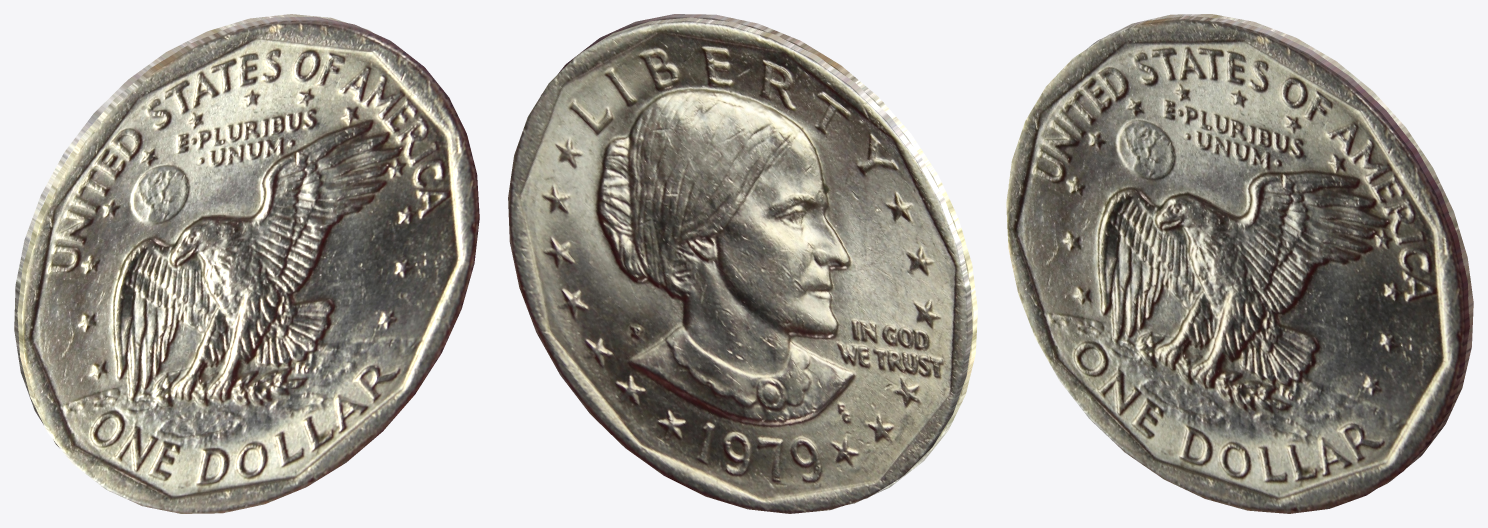
Rendered from dollar.glb.
3 views of the same model, side by side, from view 1: azimuth 30°, elevation 25°; view 2: azimuth 150°, elevation 25°; view 3: azimuth 330°, elevation 25° (orthographic).
Parts seen in each view (by area): view 1: Object_2; view 2: Object_2; view 3: Object_2.
Part boxes in pixels (x1,y1,x2,y2): Object_2: (14,14,479,513); Object_2: (508,14,977,513); Object_2: (1006,14,1473,513).
Size of the model in its own units: 6.92 by 6.91 by 0.2886.
1 material, 1 textured.
